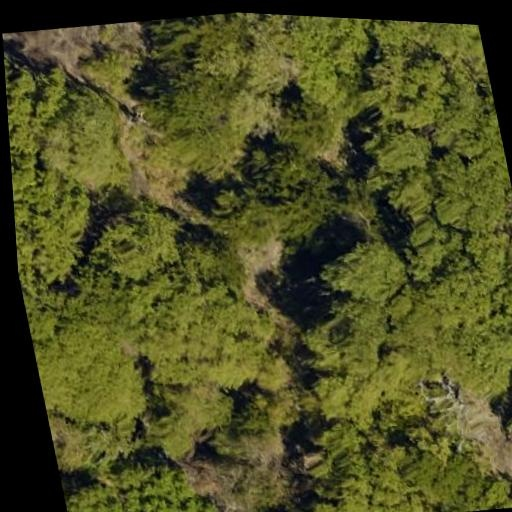tree-top: (127, 266, 308, 428), (365, 118, 491, 284), (204, 130, 367, 252), (399, 253, 512, 413), (293, 305, 422, 430), (28, 311, 154, 437), (10, 155, 106, 299), (30, 81, 144, 190), (146, 55, 243, 179), (82, 193, 198, 293), (57, 445, 229, 512), (397, 422, 512, 512), (3, 38, 80, 159), (282, 15, 379, 111), (146, 371, 242, 468), (317, 420, 416, 512), (308, 230, 416, 310), (373, 45, 460, 136), (151, 8, 254, 73), (227, 12, 307, 95), (374, 19, 486, 74), (225, 403, 292, 479), (271, 89, 339, 163), (185, 226, 255, 294), (72, 36, 137, 92), (495, 363, 512, 489)
